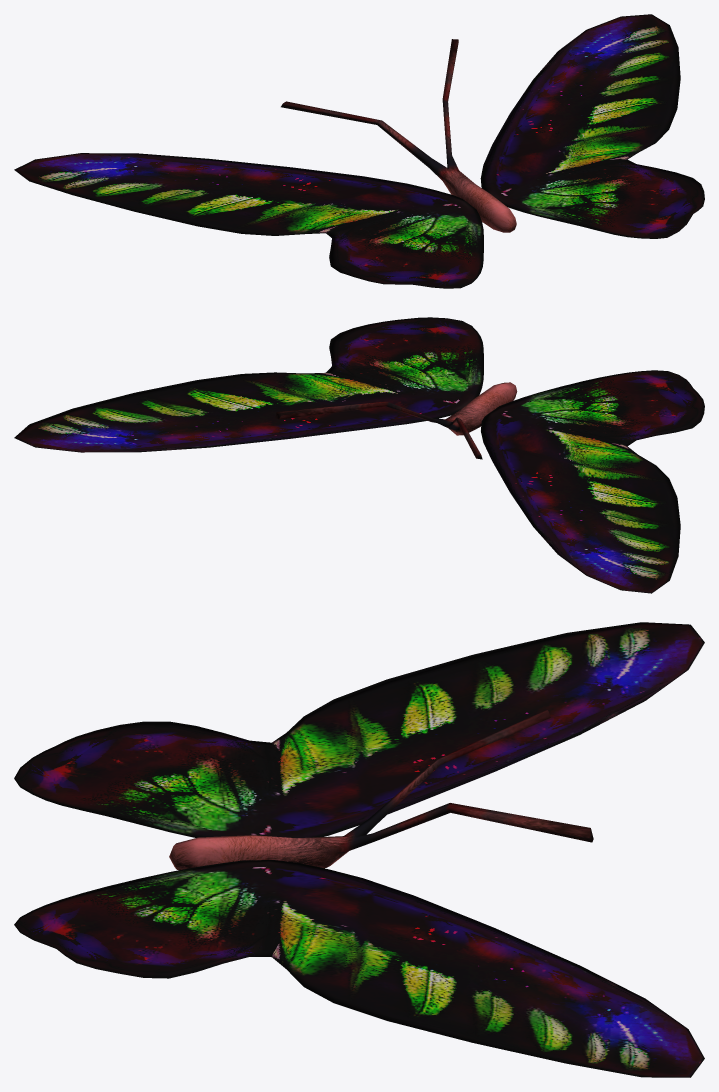
The model's file is Butterfly_Lod7.fbx.
3 renders of one model, top to bottom at view 1: azimuth 30°, elevation 25°; view 2: azimuth 150°, elevation 25°; view 3: azimuth 270°, elevation 25°, orthographic. The views are drawn at different scales.
Parts seen in each view (by area): view 1: polySurface3, Butterfly_Body; view 2: polySurface3, Butterfly_Body; view 3: polySurface3, Butterfly_Body.
Part boxes in pixels (x1,y1,x2,y2): polySurface3: [14, 14, 704, 288]; Butterfly_Body: [281, 39, 516, 232]; polySurface3: [14, 317, 704, 593]; Butterfly_Body: [275, 382, 517, 459]; polySurface3: [14, 622, 704, 1077]; Butterfly_Body: [169, 710, 593, 870].
Bounding box in the file's own units: 119 × 13.14 × 76.59.
